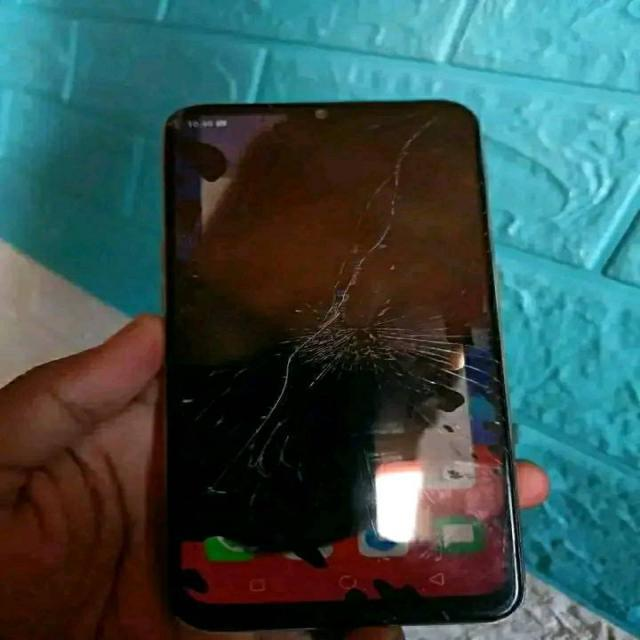phone: (157, 102, 518, 620)
